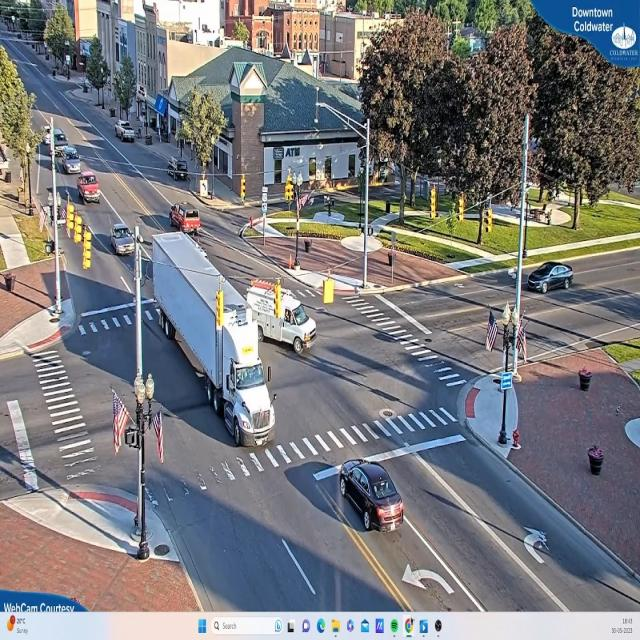car: (338, 461, 407, 536), (526, 263, 572, 294), (174, 207, 205, 234), (112, 224, 136, 254), (82, 174, 103, 205), (117, 122, 137, 144)
truck: (204, 293, 278, 447), (261, 275, 318, 353)
